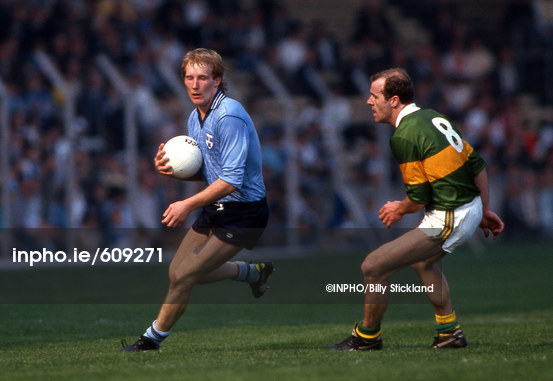ball: (161, 134, 209, 182)
player: (340, 66, 478, 328), (150, 35, 276, 308)
